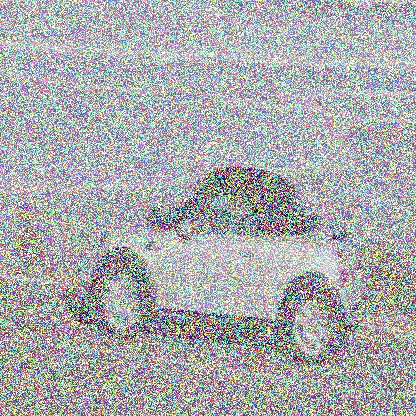Vehicle: (76, 168, 366, 366)
